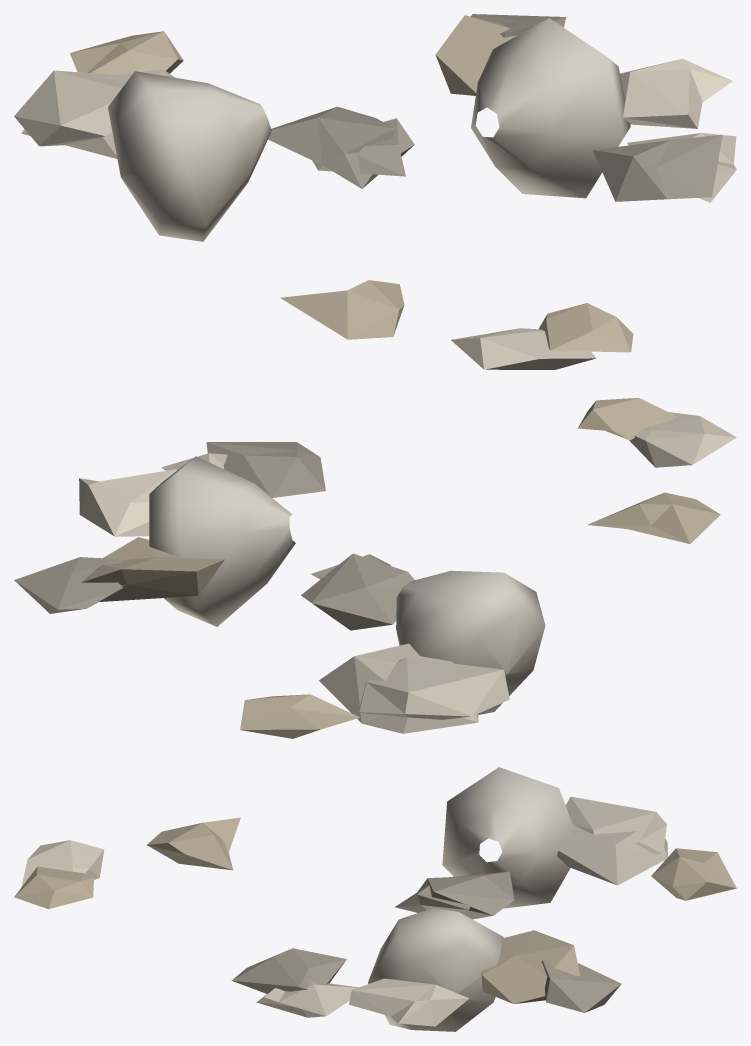
Rendered from shell-pebble-scatter.glb.
3 renders of one model, top to bottom at view 1: azimuth 30°, elevation 25°; view 2: azimuth 150°, elevation 25°; view 3: azimuth 270°, elevation 25°, orthographic. The views are drawn at different scales.
Parts seen in each view (by area): view 1: shell_pebble_scatter; view 2: shell_pebble_scatter; view 3: shell_pebble_scatter.
Part boxes in pixels (bbox=[...]): shell_pebble_scatter: bbox=[14, 14, 736, 369]; shell_pebble_scatter: bbox=[14, 398, 736, 738]; shell_pebble_scatter: bbox=[14, 767, 736, 1031].
Size of the model in its own units: 0.8462 by 0.2306 by 1.16.
